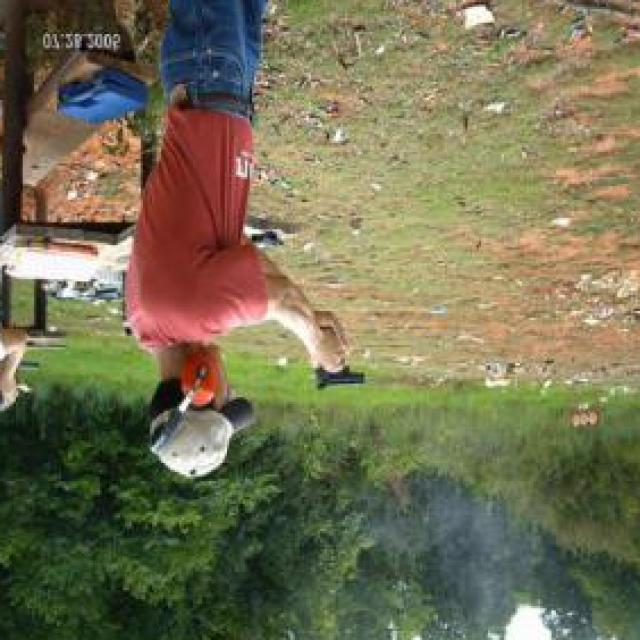pistol: (316, 324, 368, 390)
